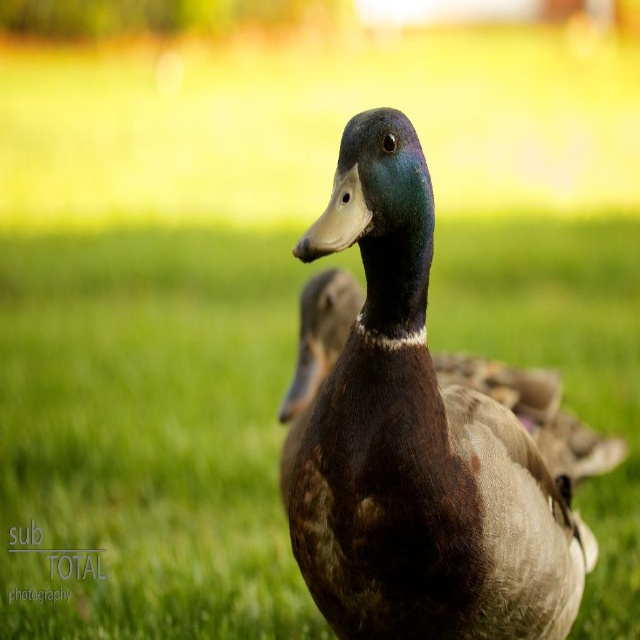Duck: (289, 104, 602, 639)
